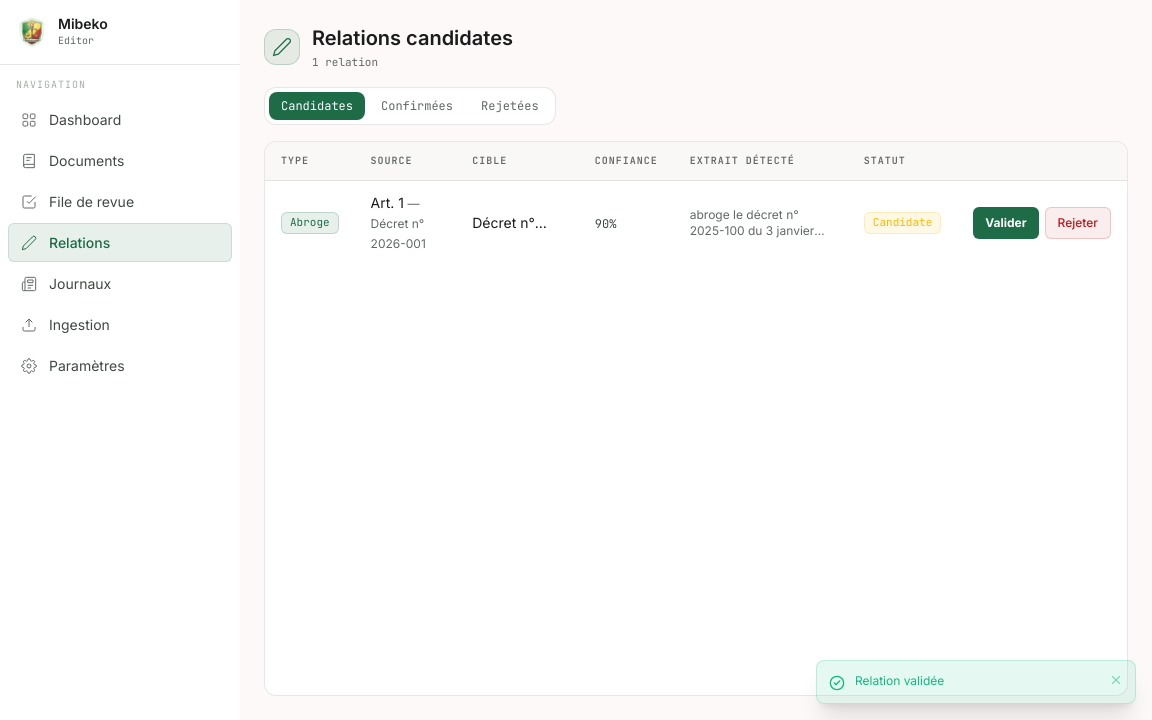
Test case: rejette une relation candidate avec un motif
Click the button "Rejeter": (1078, 223) x1=1045 y1=207 x2=1111 y2=239
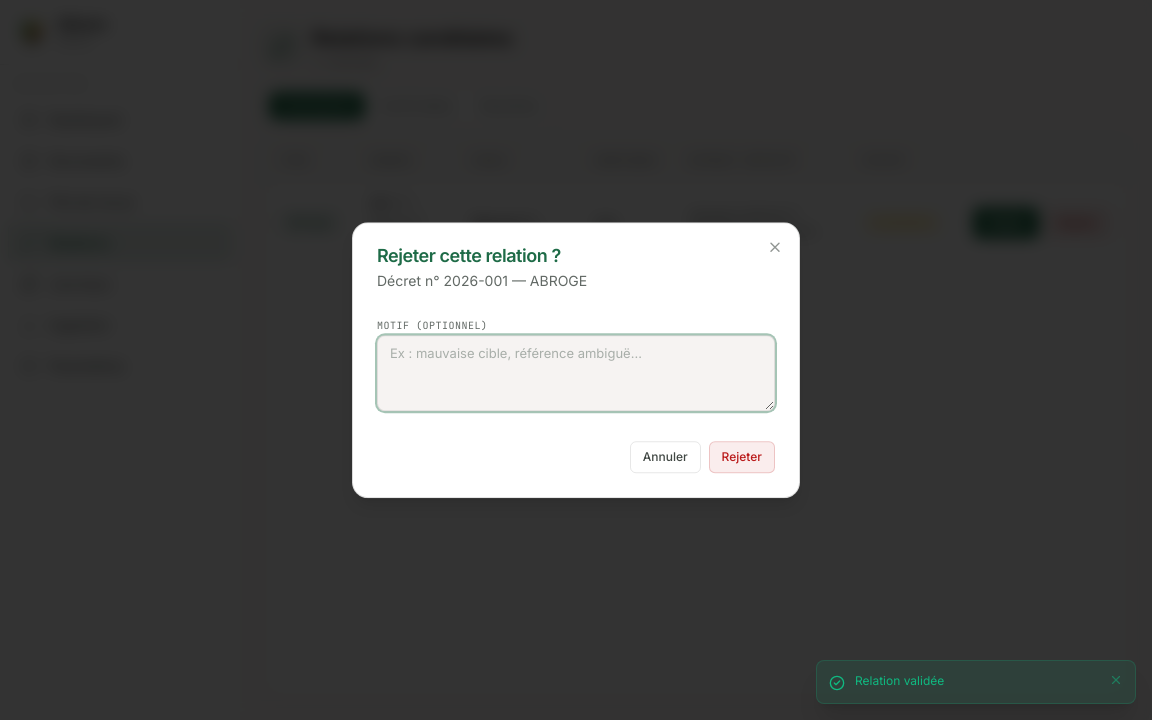
In the text box labelled "Motif (optionnel)": (576, 373) x1=377 y1=335 x2=775 y2=411, type "Mauvaise cible"
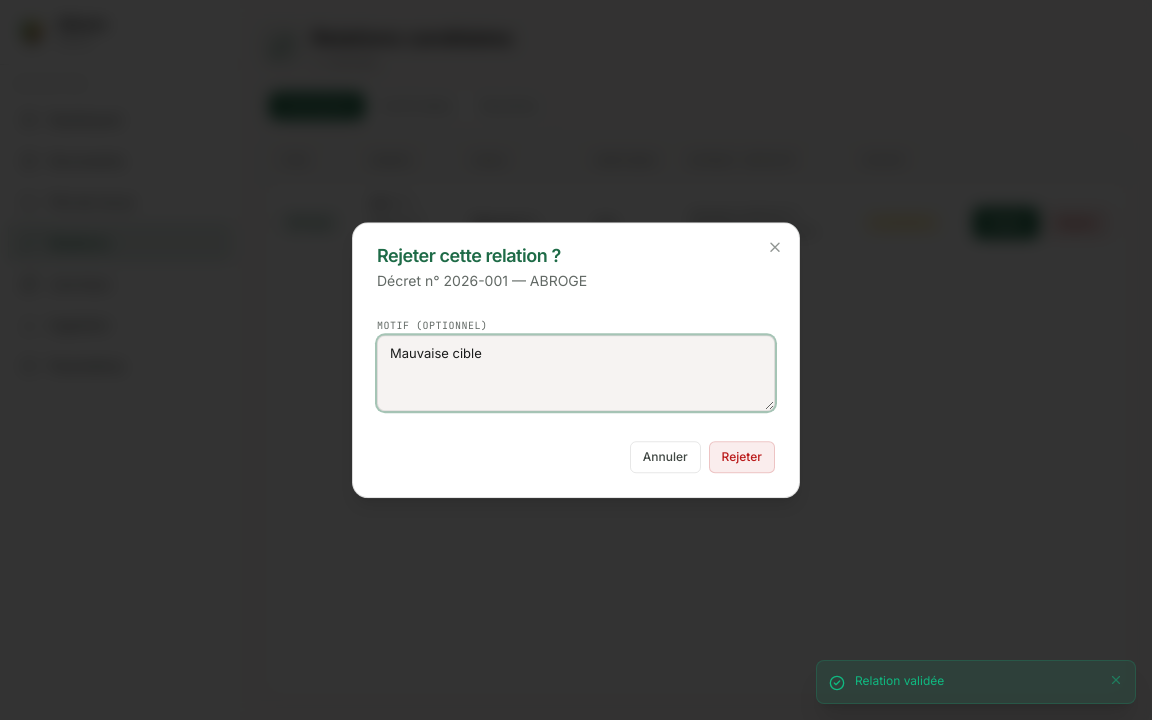
Click the button "Rejeter": (742, 457) x1=709 y1=441 x2=775 y2=473
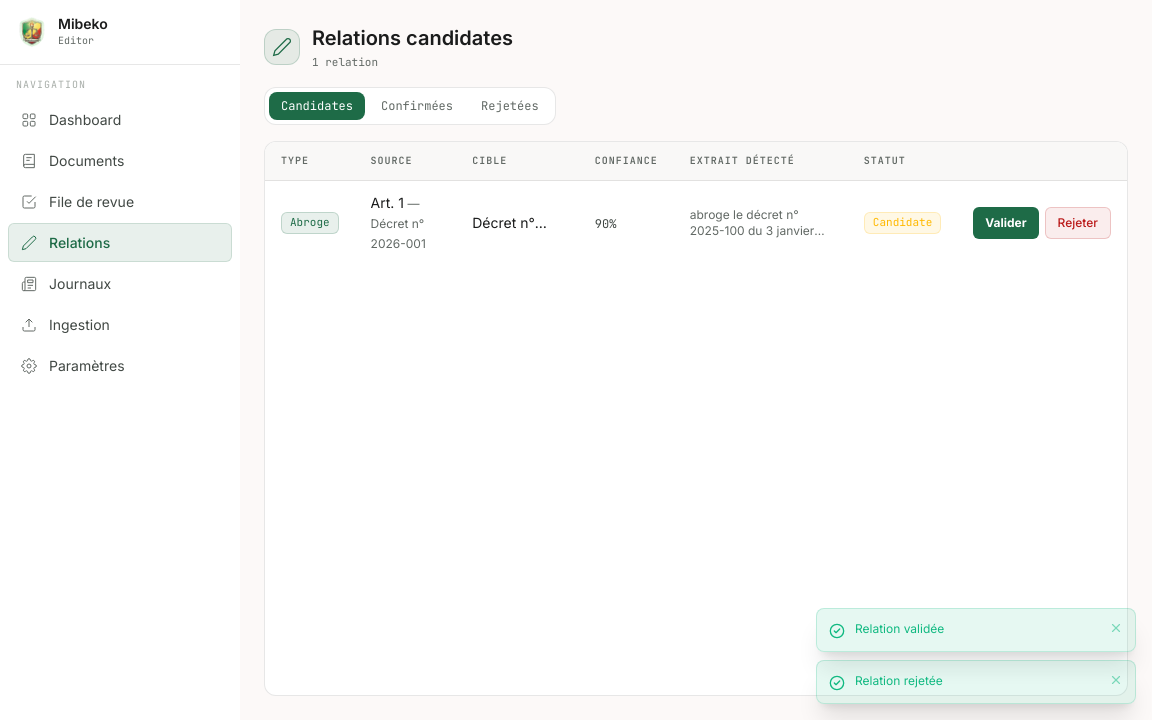
Expected: the text "Relation rejetée" is shown, x1=855 y1=673 x2=943 y2=688
